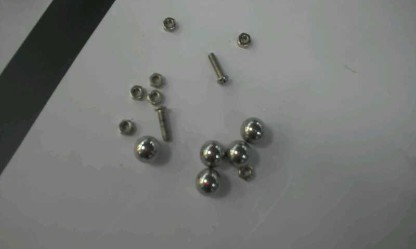ironball: (133, 135, 160, 163), (199, 139, 225, 167), (195, 167, 220, 195), (239, 117, 264, 144), (225, 139, 250, 166)
